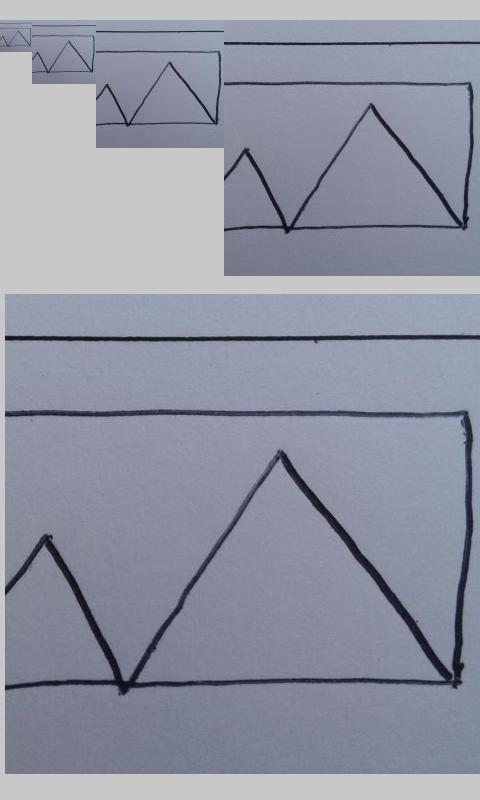image_view: (7, 406, 474, 691), (220, 80, 474, 231), (95, 50, 221, 126), (31, 34, 94, 74), (1, 27, 31, 47)
